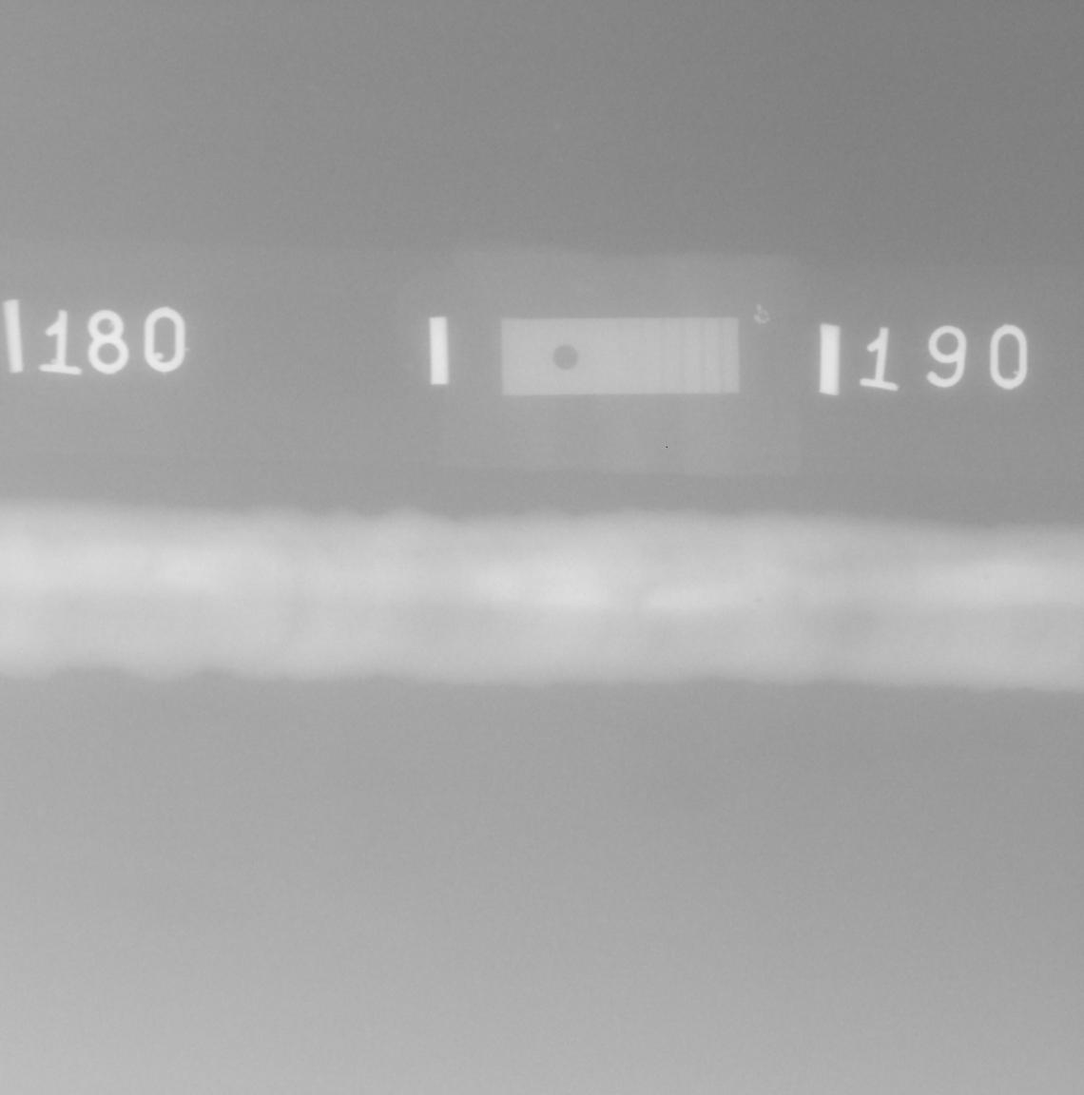Pore/Porosity: (754, 598, 765, 604), (329, 584, 337, 592), (983, 575, 991, 581)
Reference Standard 1: (501, 317, 740, 395)
